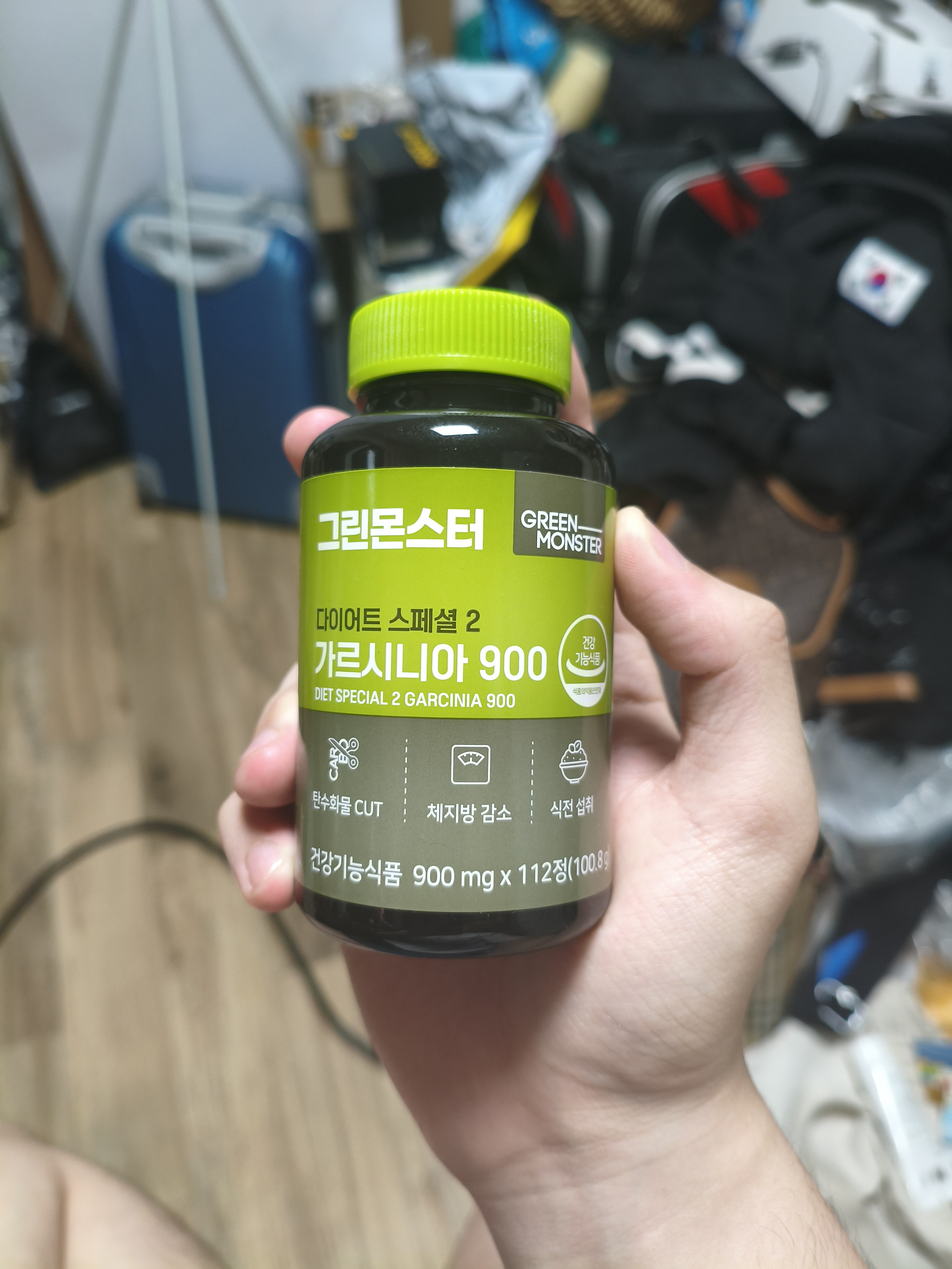supplement_label: (279, 458, 631, 924)
